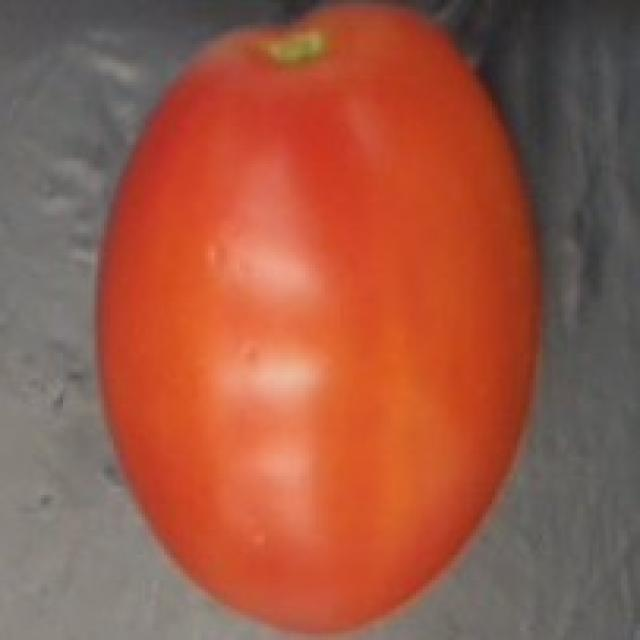ripe tomato: (85, 2, 554, 640)
